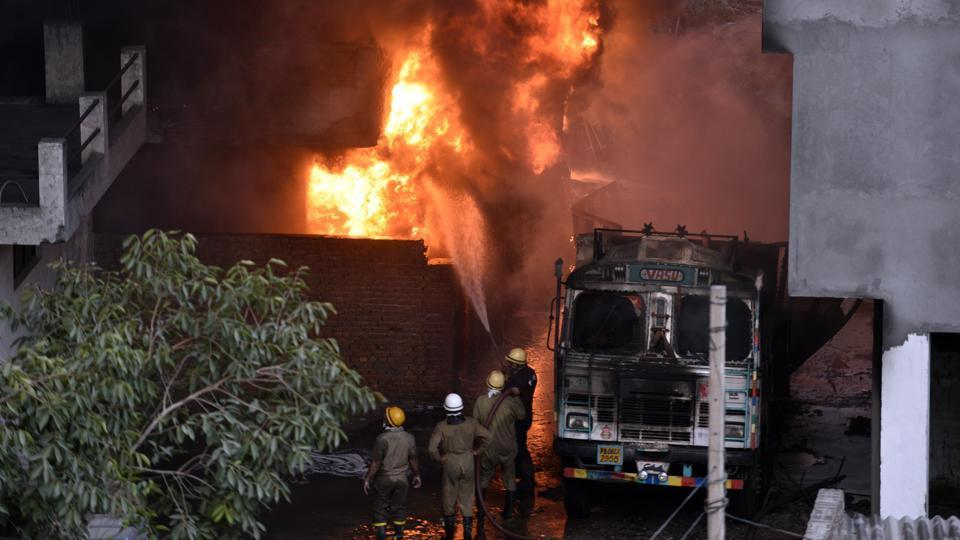Fire: (481, 4, 611, 168), (286, 138, 432, 256), (365, 49, 465, 163)
